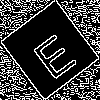E: (25, 25, 79, 82)
